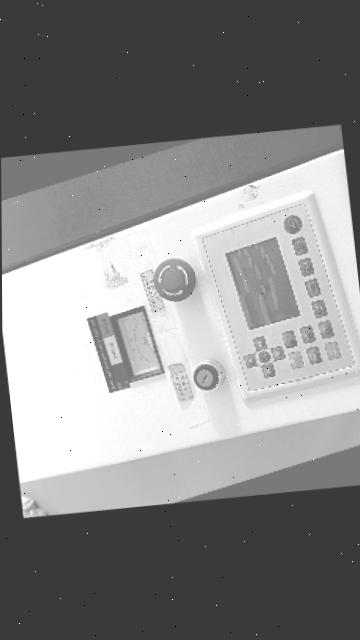Amp_Meter: (117, 312, 159, 377)
Display: (225, 237, 299, 329)
Down_button: (269, 346, 285, 361)
Emergency_Stop: (154, 259, 194, 302)
Enter_button: (287, 351, 303, 369)
Esc_button: (281, 331, 297, 349)
File_button: (317, 321, 333, 339)
Frame_button: (305, 346, 321, 365)
Max-Power_button: (310, 300, 327, 318)
Min-Power_button: (304, 279, 320, 297)
Origin_button: (298, 326, 315, 344)
Power_switch: (192, 360, 224, 391)
Pulse_button: (291, 237, 307, 256)
Reset_button: (283, 216, 301, 234)
Right_button: (261, 364, 275, 378)
Speed_button: (297, 258, 314, 277)
Start-Pause_button: (323, 341, 340, 360)
Up_button: (243, 354, 257, 368)
Z_U_button: (257, 351, 270, 363)
